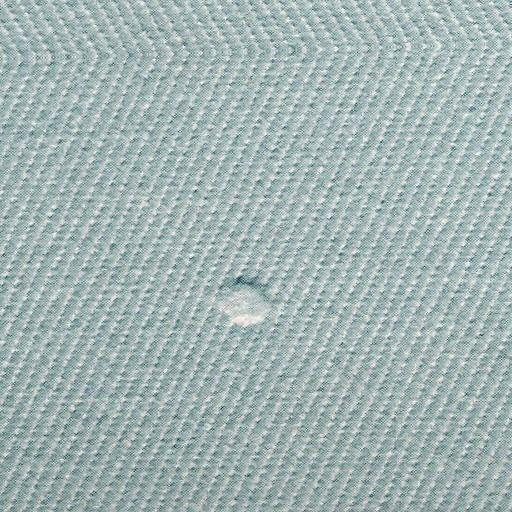knot: (205, 267, 286, 332)
